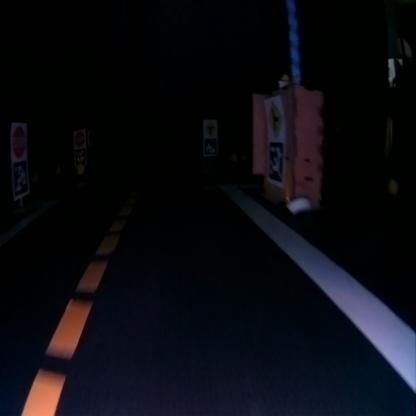Duckie: (76, 163, 83, 172)
Intersection sign: (267, 100, 283, 136), (204, 120, 215, 136)
QR code: (267, 140, 283, 183), (12, 159, 28, 196), (204, 138, 216, 153), (74, 149, 84, 164)
Stop sign: (12, 125, 24, 157), (74, 130, 85, 145)
